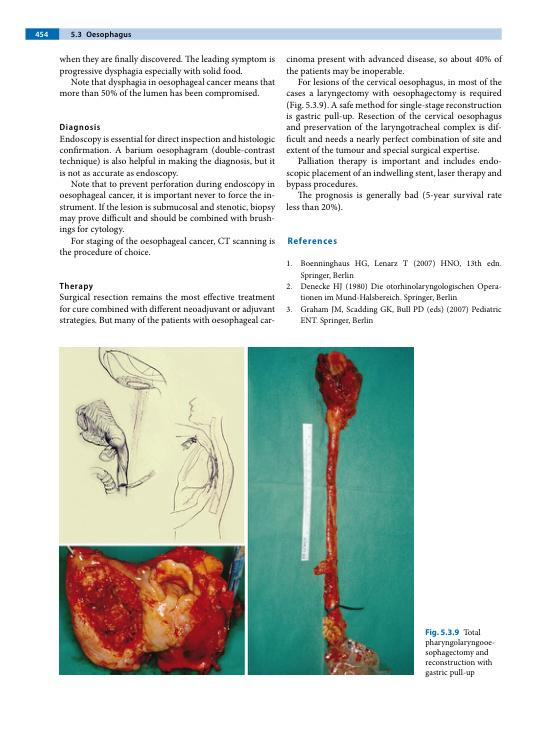caption: (424, 626, 495, 679)
header: (70, 31, 132, 39)
image: (248, 346, 415, 675), (58, 346, 245, 543), (58, 545, 246, 675)
list: (284, 258, 504, 326)
section-heading: (287, 235, 339, 246)
sub-section-heading: (59, 122, 102, 133), (57, 282, 94, 291)
text: (285, 54, 503, 213), (59, 134, 276, 258), (58, 54, 276, 100), (59, 292, 276, 327)
